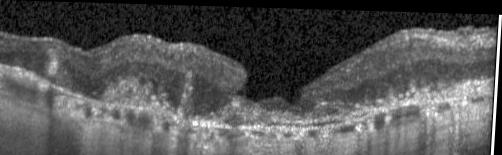lamellar_macular_rupture: (238, 69, 310, 104)
subretinal_hyperreflective_material: (199, 98, 371, 125), (101, 71, 177, 113), (179, 68, 196, 117)
